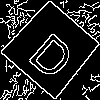D: (26, 24, 84, 83)
